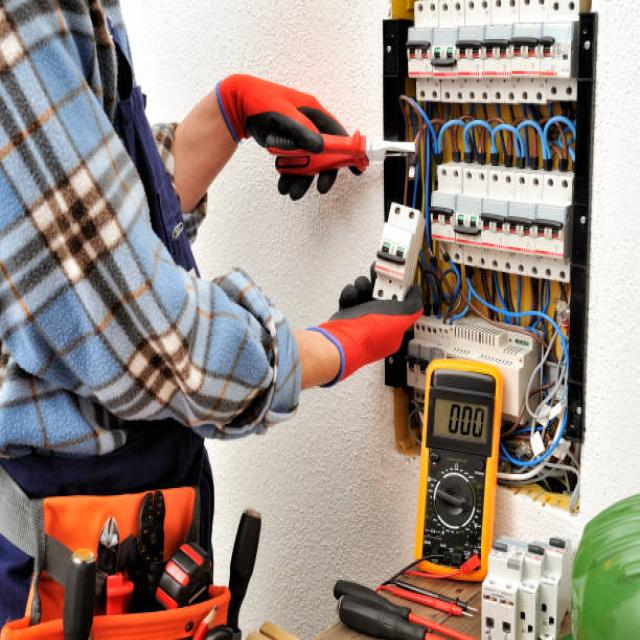Gloves: (210, 67, 377, 206), (302, 250, 438, 389)
person: (0, 0, 427, 640)
